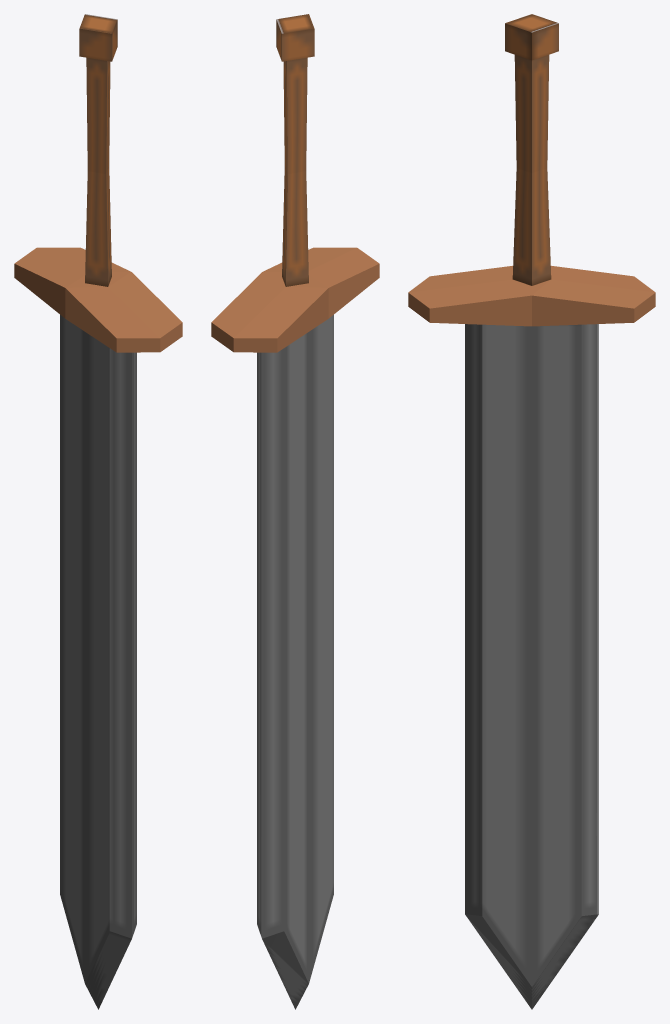
Rendered from Espada01_Textured.fbx.
3 renders of one model, left to right at view 1: azimuth 30°, elevation 25°; view 2: azimuth 150°, elevation 25°; view 3: azimuth 270°, elevation 25°, orthographic.
Parts seen in each view (by area): view 1: Espada; view 2: Espada; view 3: Espada.
Part boxes in pixels (bbox=[...]): Espada: bbox=[14, 14, 182, 1009]; Espada: bbox=[211, 14, 379, 1009]; Espada: bbox=[408, 14, 655, 1009].
Size of the model in its own units: 21.8 by 311 by 70.66.
